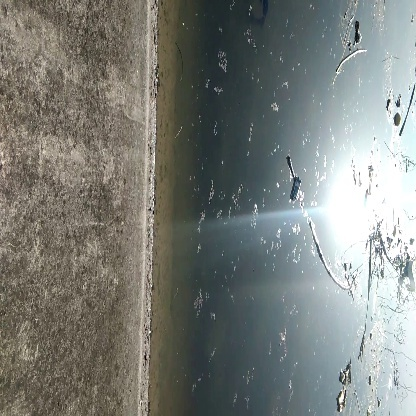branch: (304, 222, 359, 296)
milk-box: (289, 175, 304, 202)
